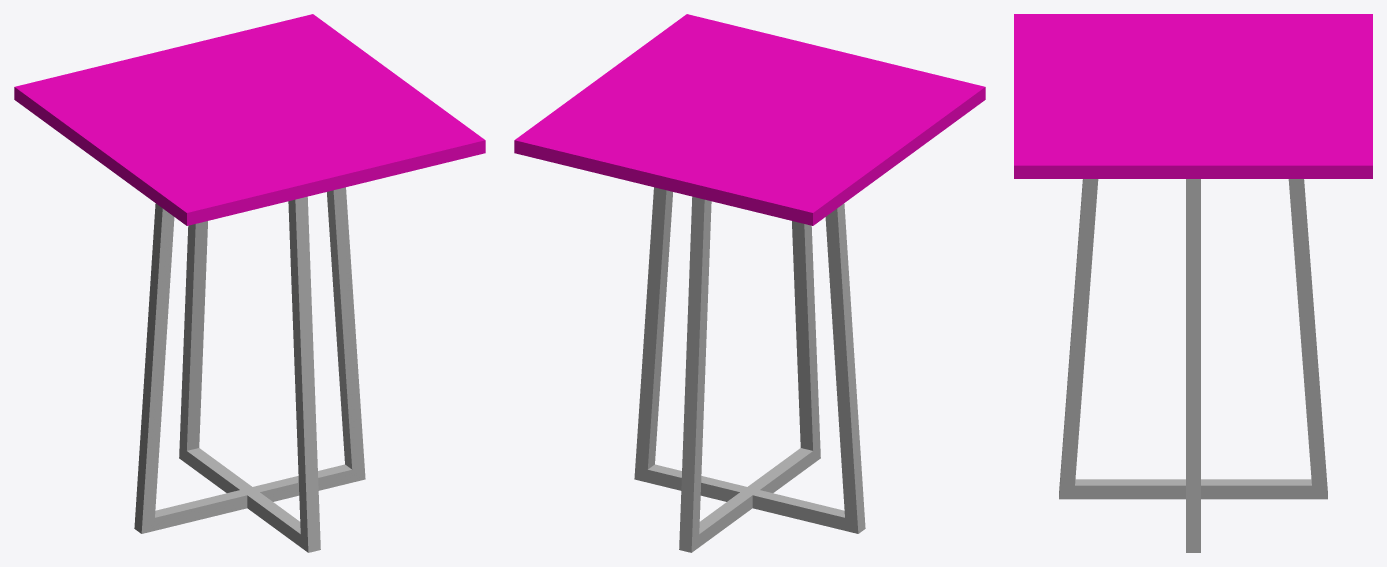
The model's file is TableSQ.fbx.
The picture shows the model from 3 angles, left to right: view 1: azimuth 30°, elevation 25°; view 2: azimuth 150°, elevation 25°; view 3: azimuth 270°, elevation 25°; orthographic projection. The views are drawn at different scales.
Parts seen in each view (by area): view 1: SQTable; view 2: SQTable; view 3: SQTable.
Part boxes in pixels (x1,y1,x2,y2): SQTable: (14, 14, 485, 552); SQTable: (514, 14, 985, 552); SQTable: (1014, 14, 1372, 552).
Size of the model in its own units: 60 by 75 by 60.
